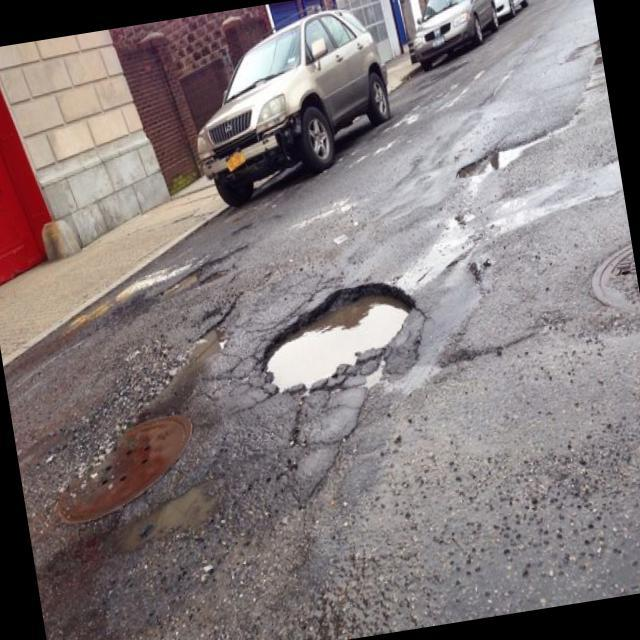Pothole: (244, 252, 543, 442), (119, 471, 278, 544), (449, 117, 592, 174), (165, 256, 274, 304), (103, 253, 197, 300), (55, 296, 138, 331)
